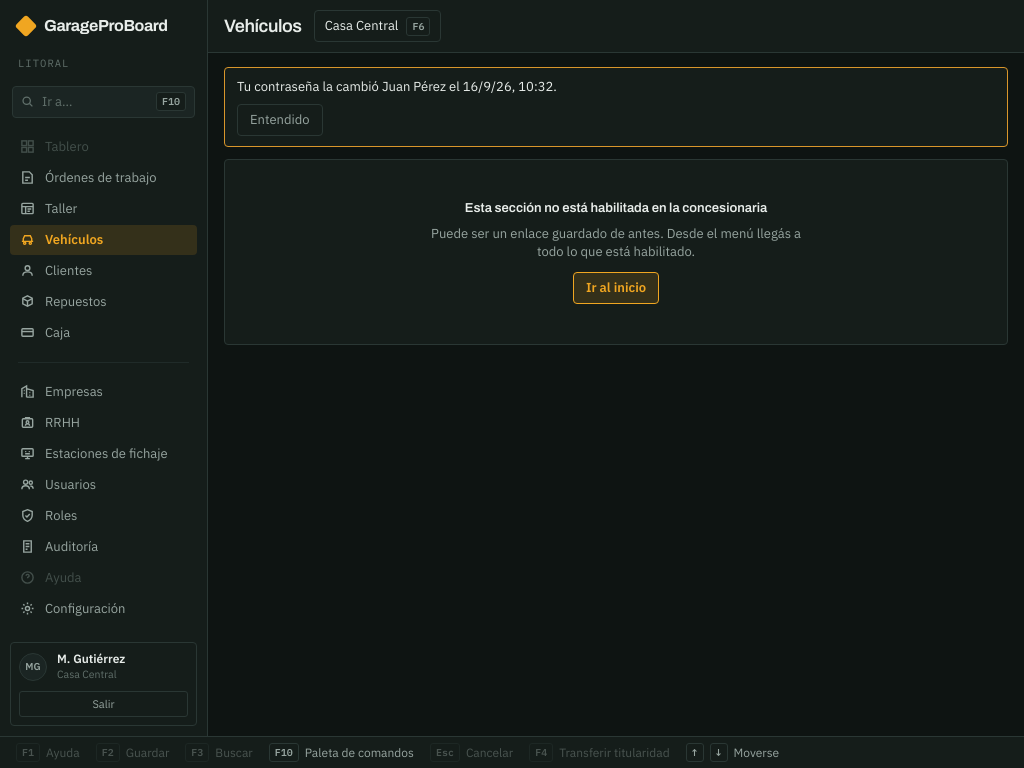
Test case: los avisos › aparecen al entrar y se van con «Entendido»
Expected: the message named "Avisos" shows "Tu contraseña la cambió Juan Pérez", left=237, top=78, right=557, bottom=95
Step 1. Click the button "Entendido" → (280, 120), box left=237, top=104, right=323, bottom=136
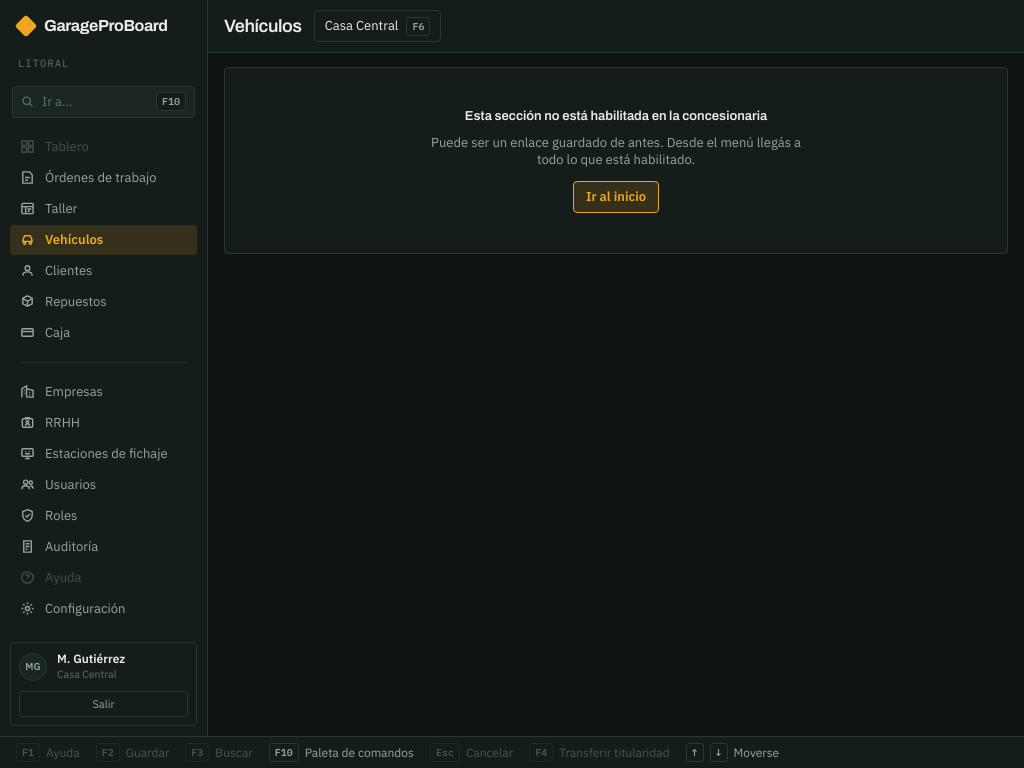
Expected: the message "Avisos" is gone
